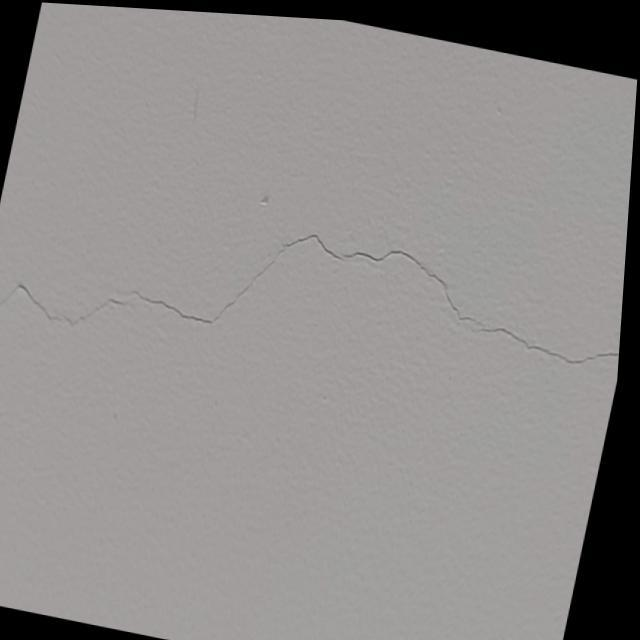Crack: (9, 221, 609, 370)
